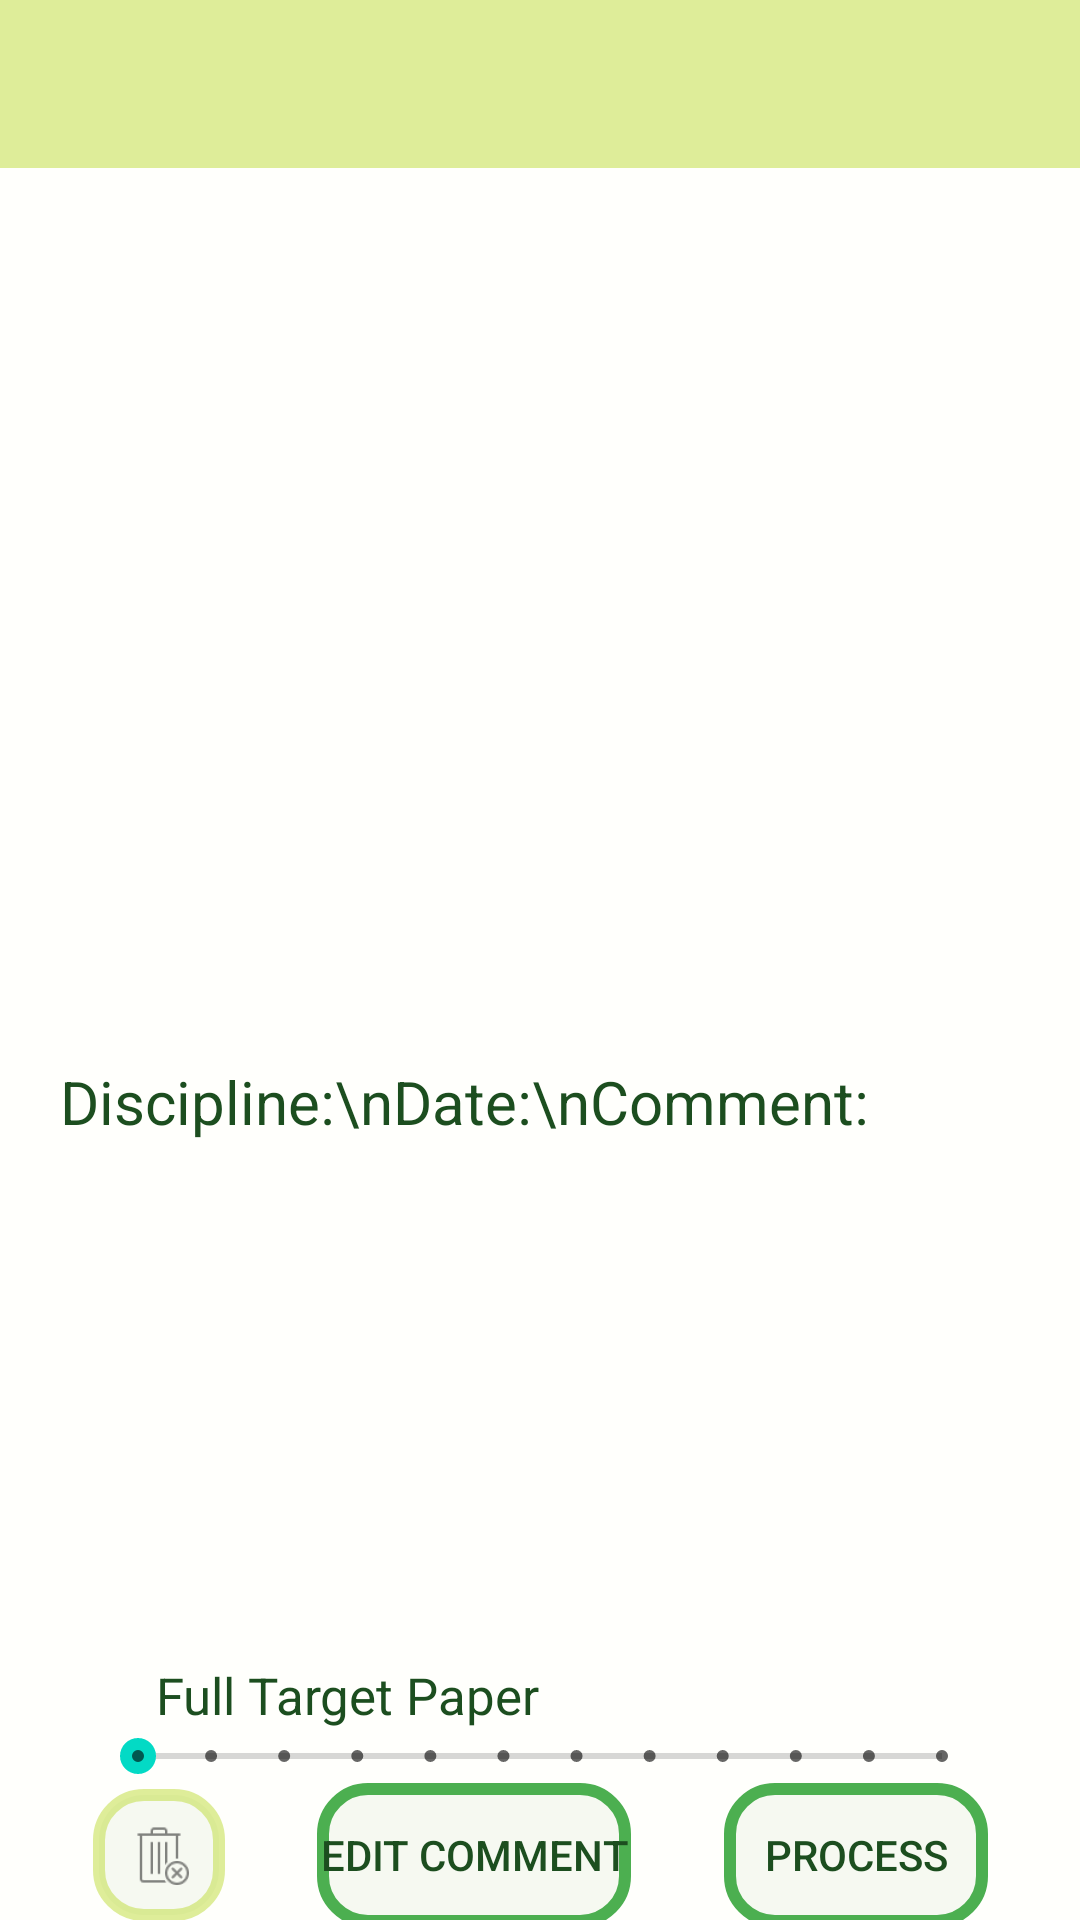

Icons on this 1080px x 1920px Android screen, each with its box as (x1, y1, x2, y2):
trash bin: (93, 1789, 225, 1920)
